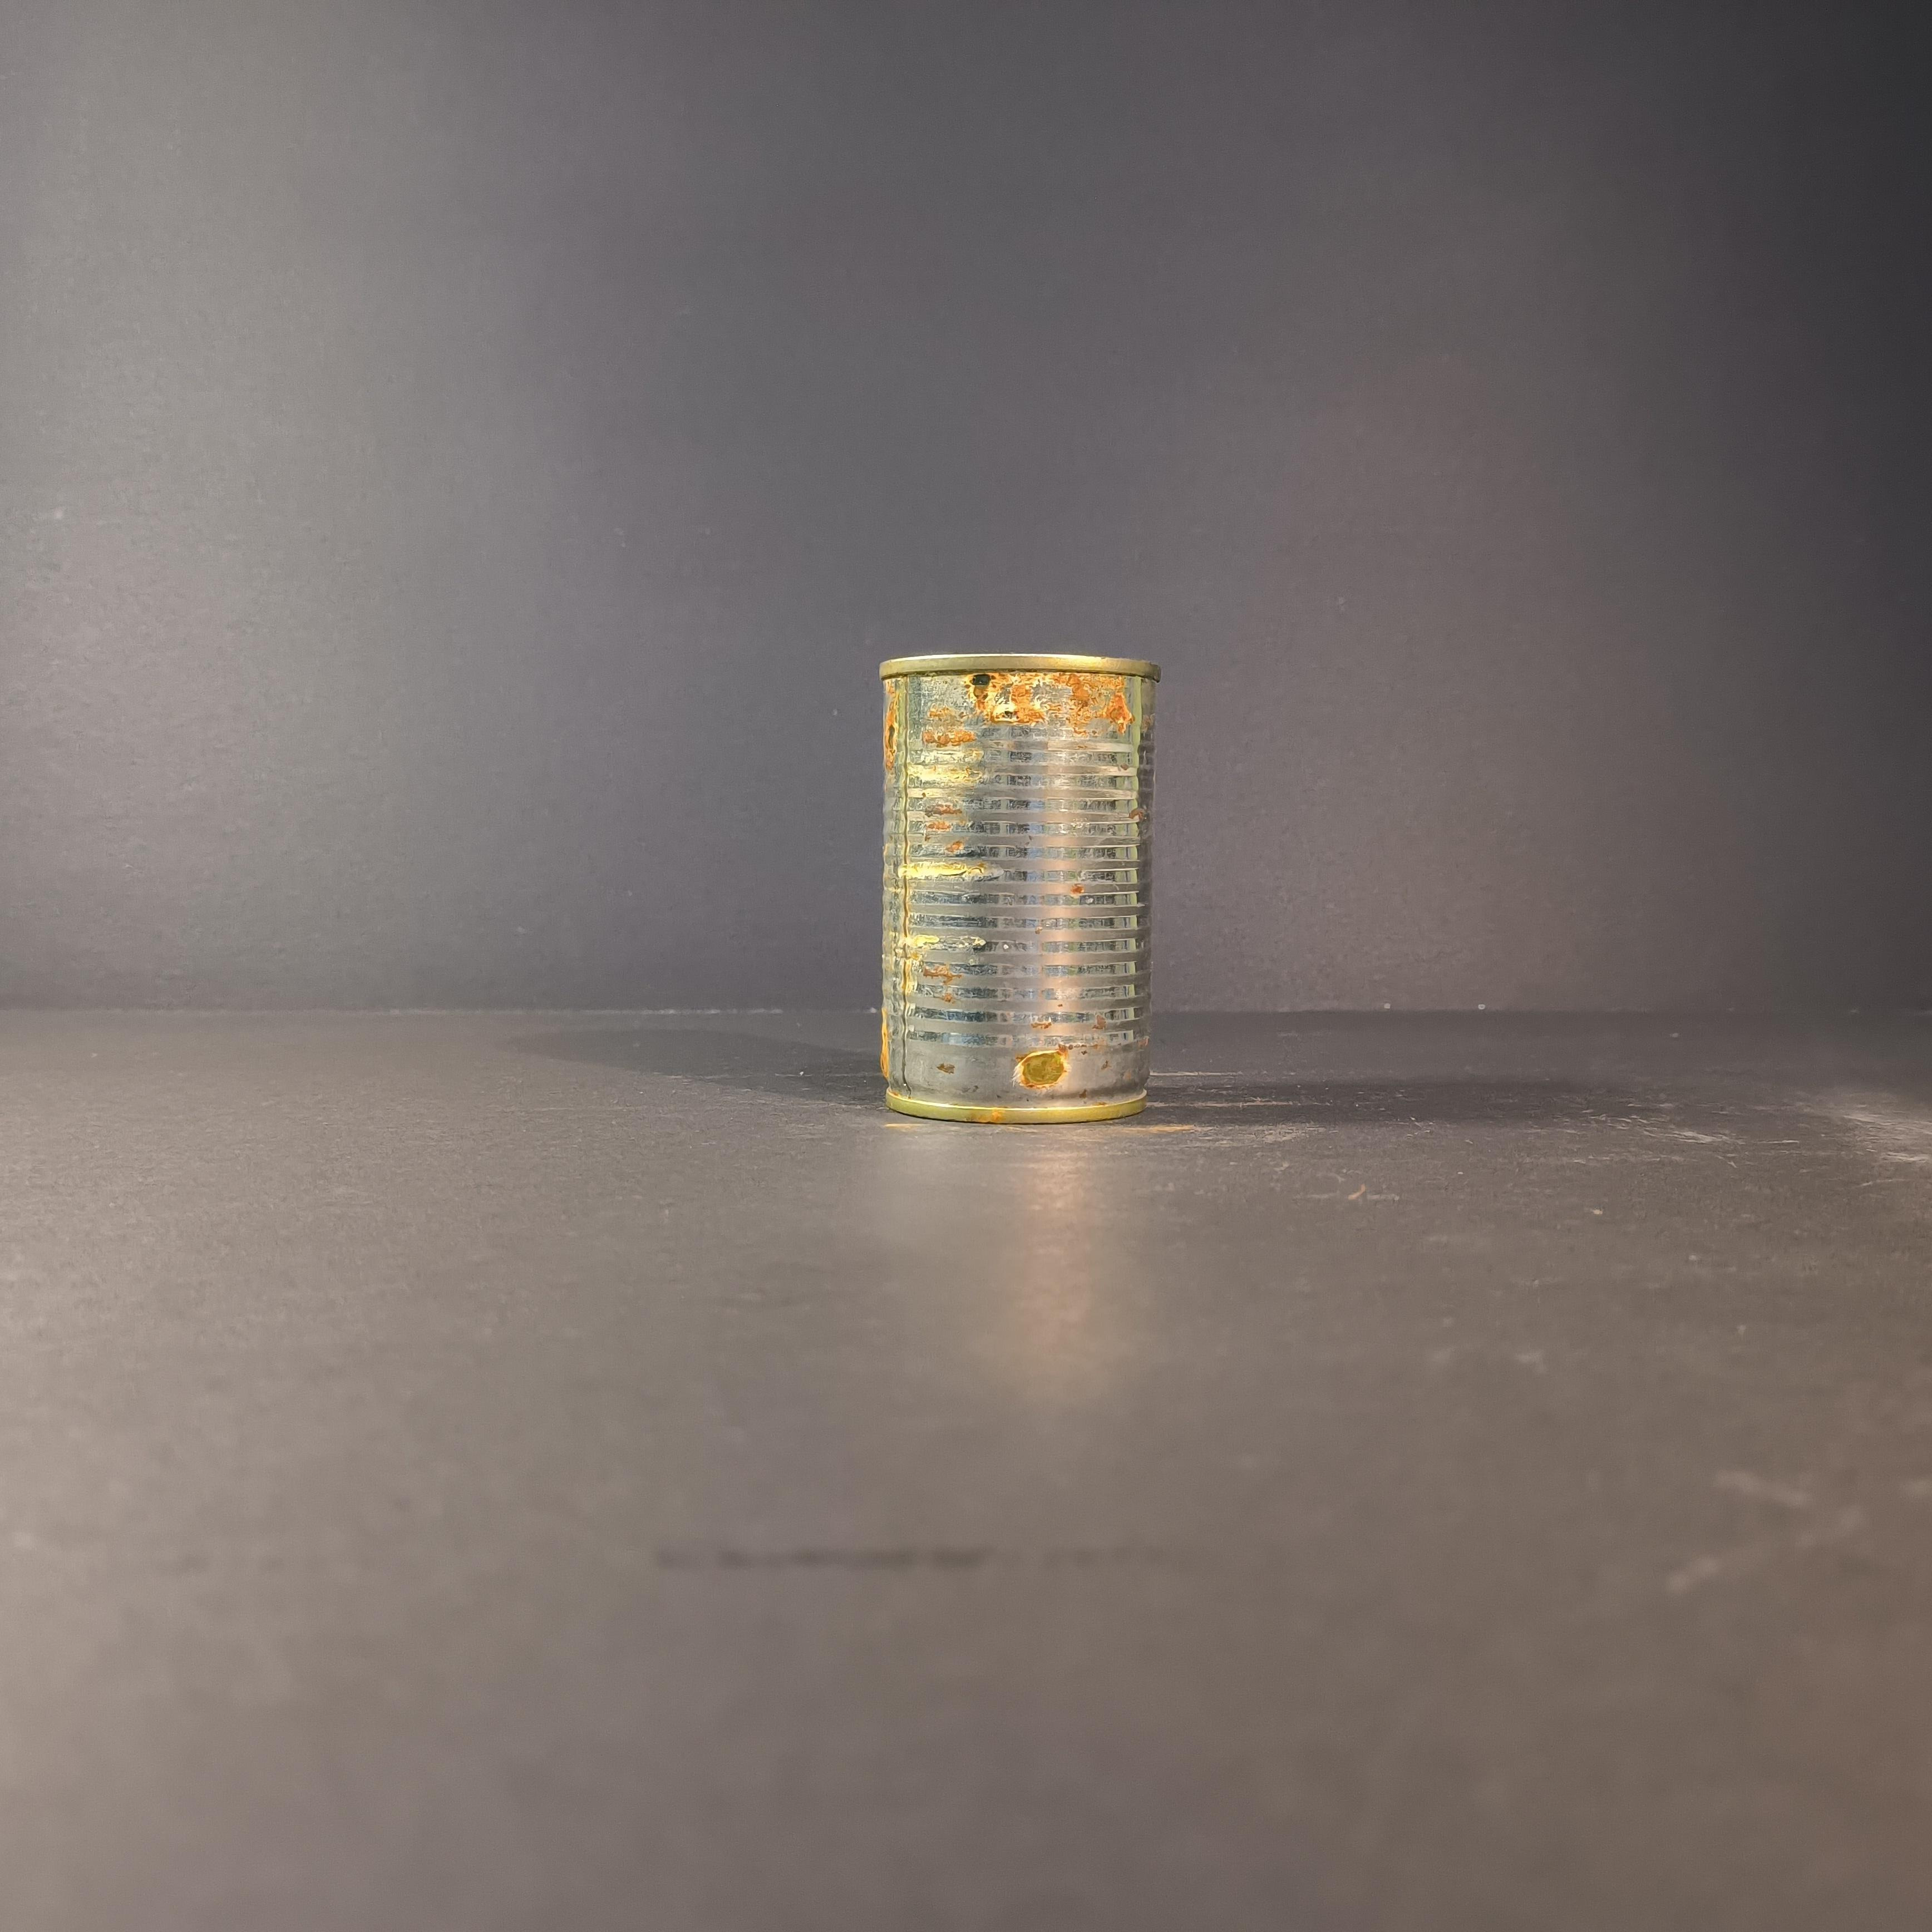Rusted: (842, 617, 1182, 1143)
